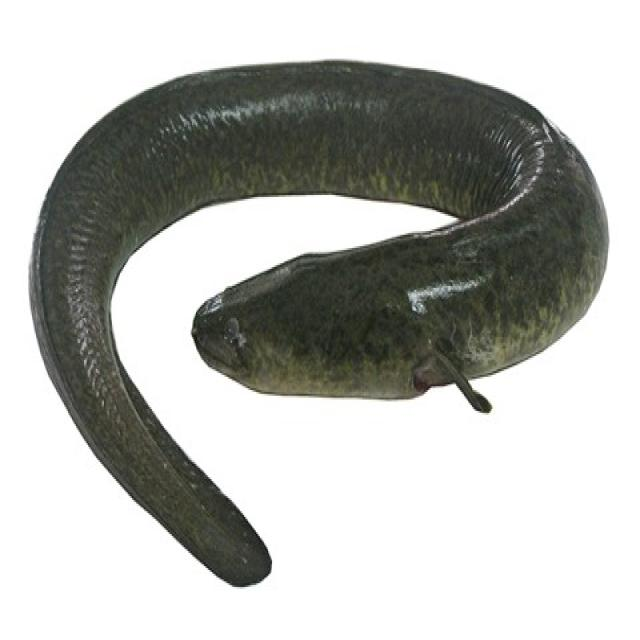Freshwater-Eel: (14, 53, 588, 601)
